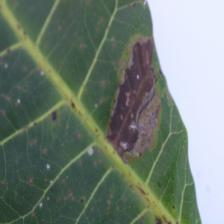leaf miner: (0, 0, 204, 223), (104, 36, 161, 163)
